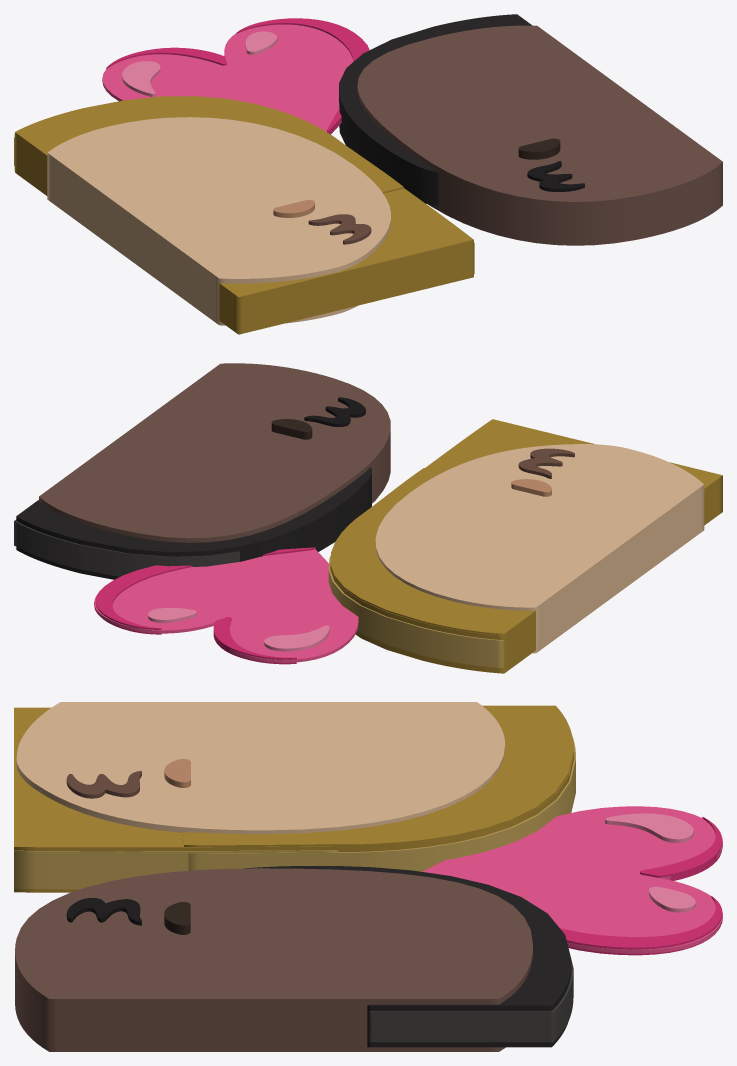
The model's file is emoji_u1f469_1f3fc_200d_2764_200d_1f48b_200d_1f468_1f3ff.glb.
The picture shows the model from 3 angles, top to bottom: view 1: azimuth 30°, elevation 25°; view 2: azimuth 150°, elevation 25°; view 3: azimuth 270°, elevation 25°; orthographic projection. The views are drawn at different scales.
Parts seen in each view (by area): view 1: emoji_u1f469_1f3fc_200d_2764_200d_1f48b_200d_1f468_1f3ff; view 2: emoji_u1f469_1f3fc_200d_2764_200d_1f48b_200d_1f468_1f3ff; view 3: emoji_u1f469_1f3fc_200d_2764_200d_1f48b_200d_1f468_1f3ff.
Part boxes in pixels (x1,y1,x2,y2): emoji_u1f469_1f3fc_200d_2764_200d_1f48b_200d_1f468_1f3ff: (14, 14, 722, 334); emoji_u1f469_1f3fc_200d_2764_200d_1f48b_200d_1f468_1f3ff: (14, 363, 722, 673); emoji_u1f469_1f3fc_200d_2764_200d_1f48b_200d_1f468_1f3ff: (14, 702, 722, 1051).
Size of the model in its own units: 0.0336 by 0.0038 by 0.0339.
